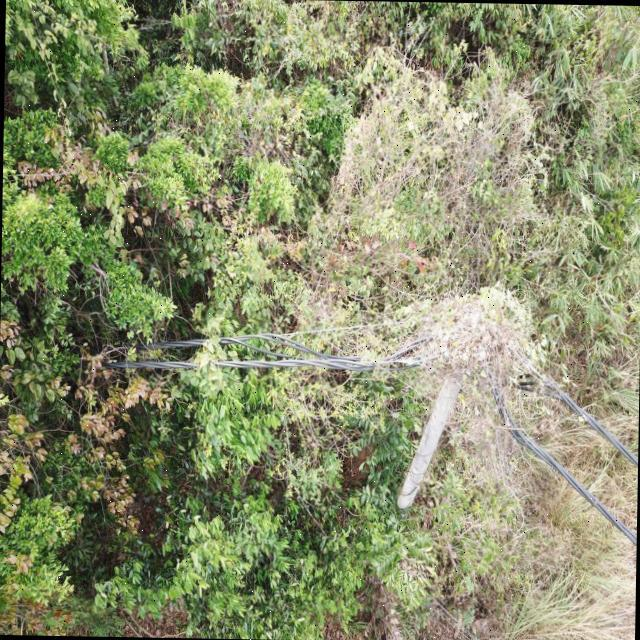critical vegetation: (370, 272, 557, 454)
